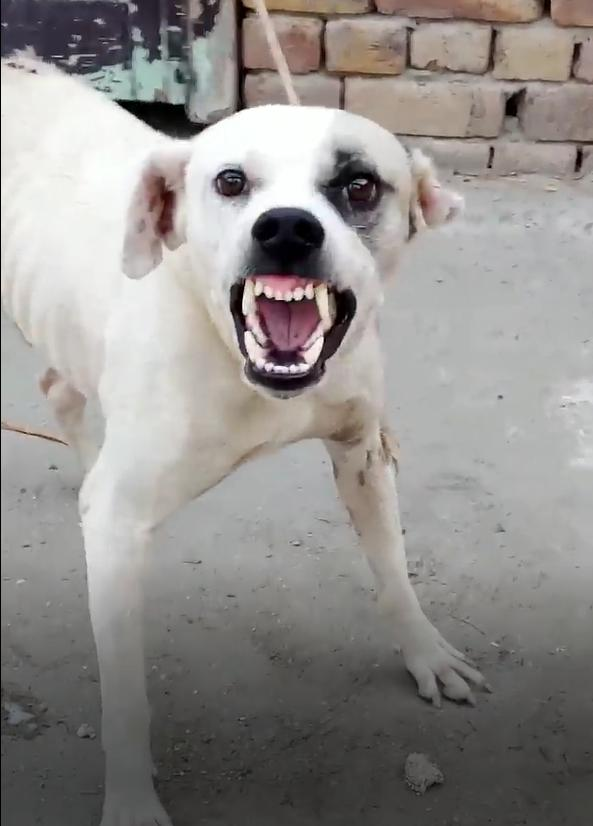dog_aggressive: (1, 14, 524, 826)
